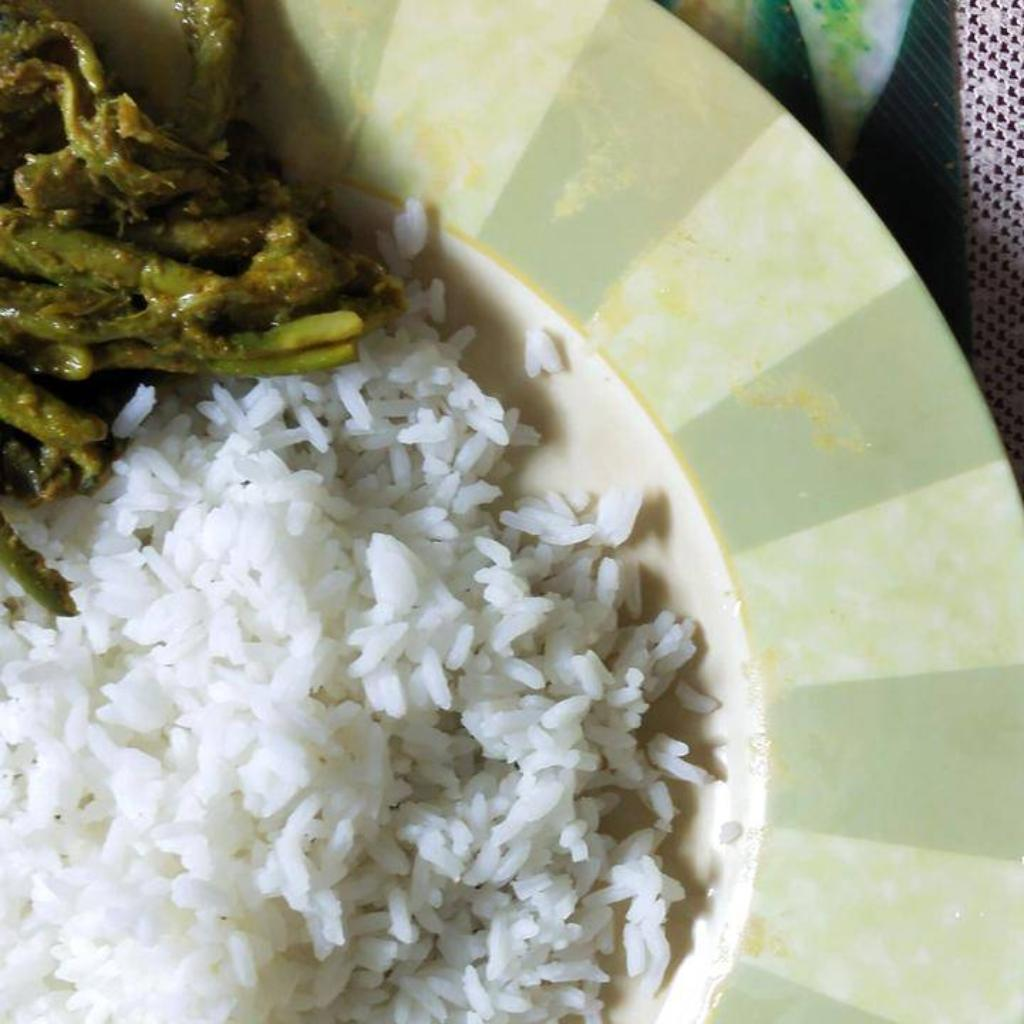rice: (0, 186, 717, 1021)
vaji: (0, 0, 360, 617)
